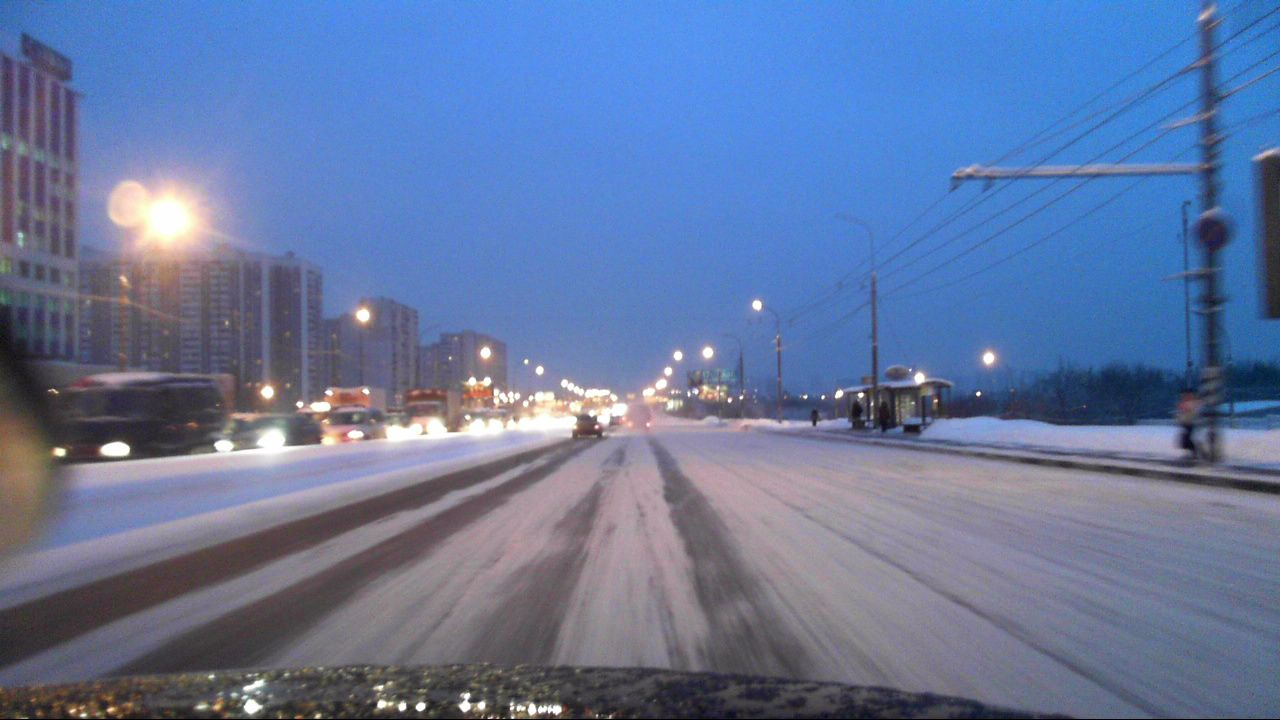No Parking: (1192, 207, 1234, 249)
